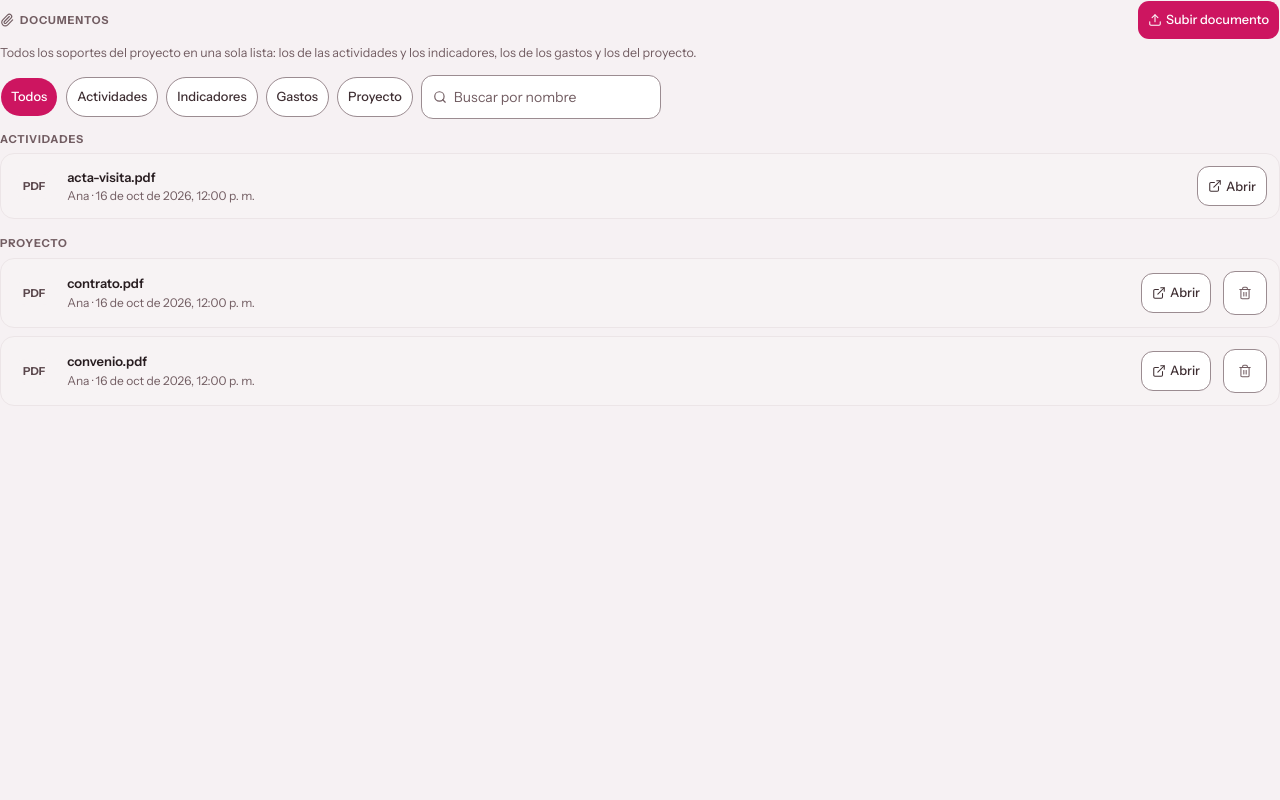
FichaDocumentos: project documents (upload, open, delete) › opens the upload dialog
The image size is (1280, 800).
Click the button "Subir documento" at point(1208, 20), box top-left (1137, 0), bottom-right (1279, 40)
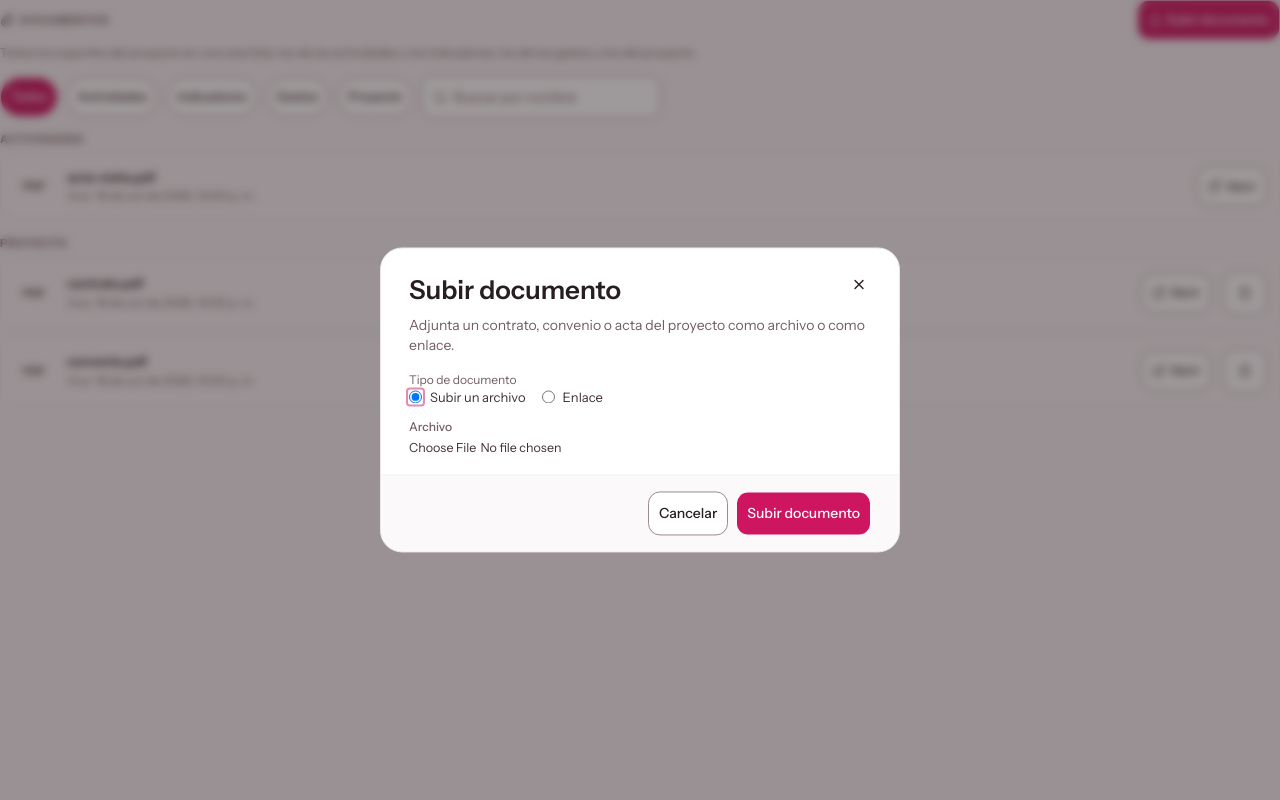
Expected: the dialog shows "Subir documento", top-left (409, 274), bottom-right (621, 306)
